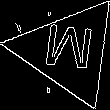M_S: (40, 23, 96, 79)
